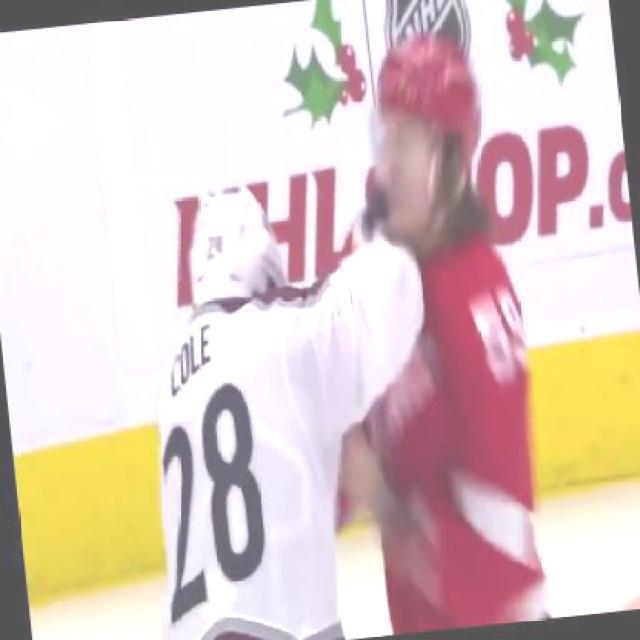fight: (109, 24, 557, 638)
